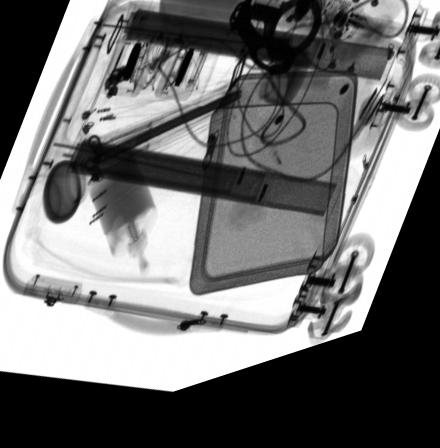HandCuffs: (228, 11, 321, 91)
